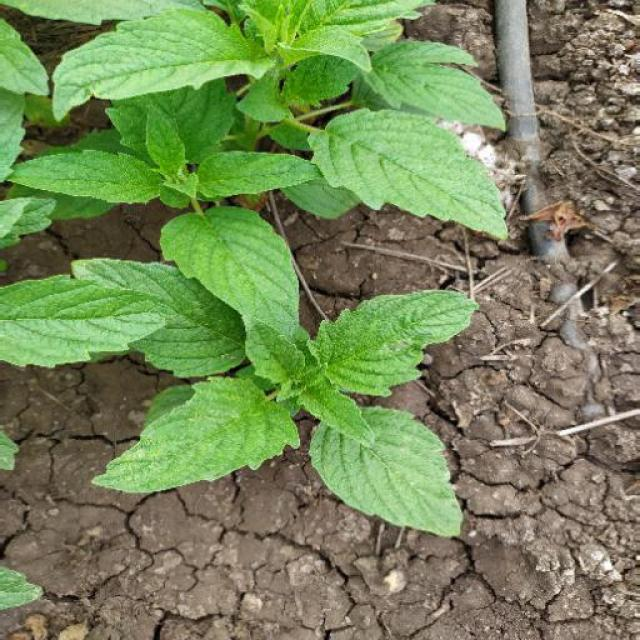crop: (1, 1, 519, 549)
